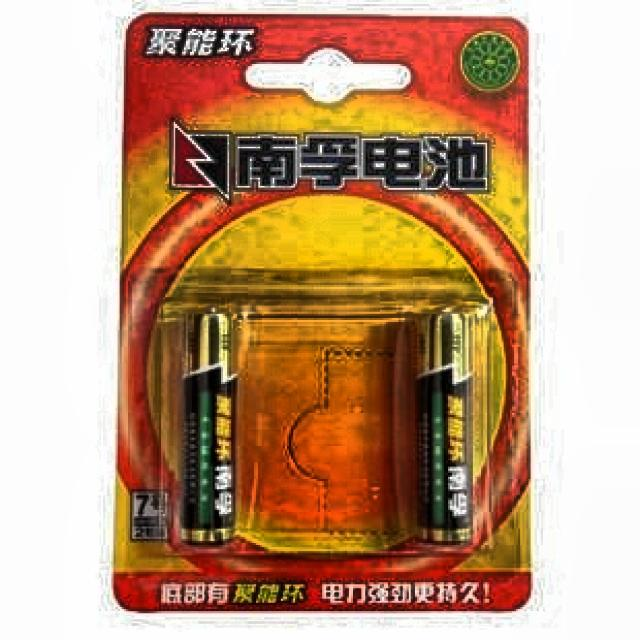Non-Valuable Waste - Batteries: (181, 311, 236, 543), (419, 313, 471, 543)
